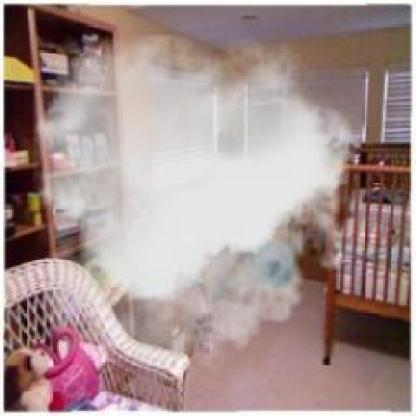Smoke: (33, 36, 369, 394)
